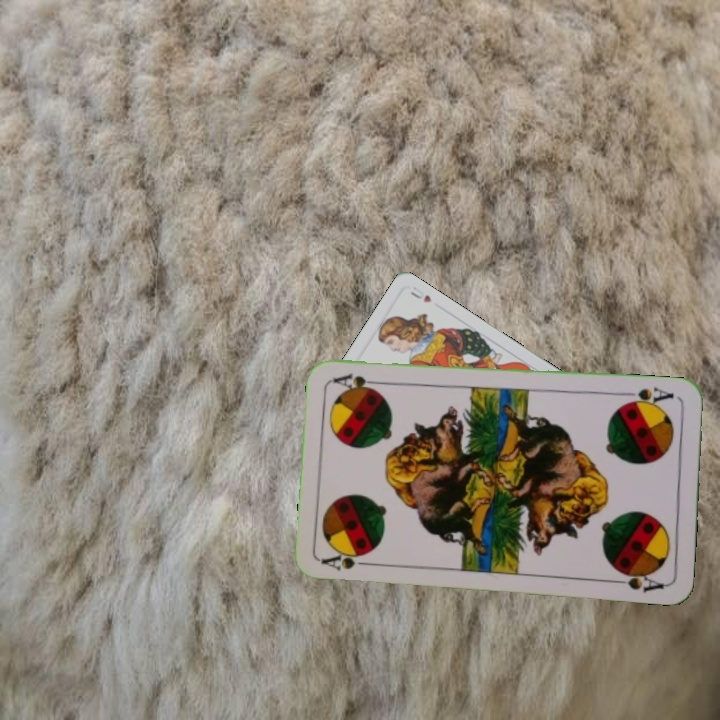SA: (620, 382, 677, 410), (319, 548, 378, 573)
